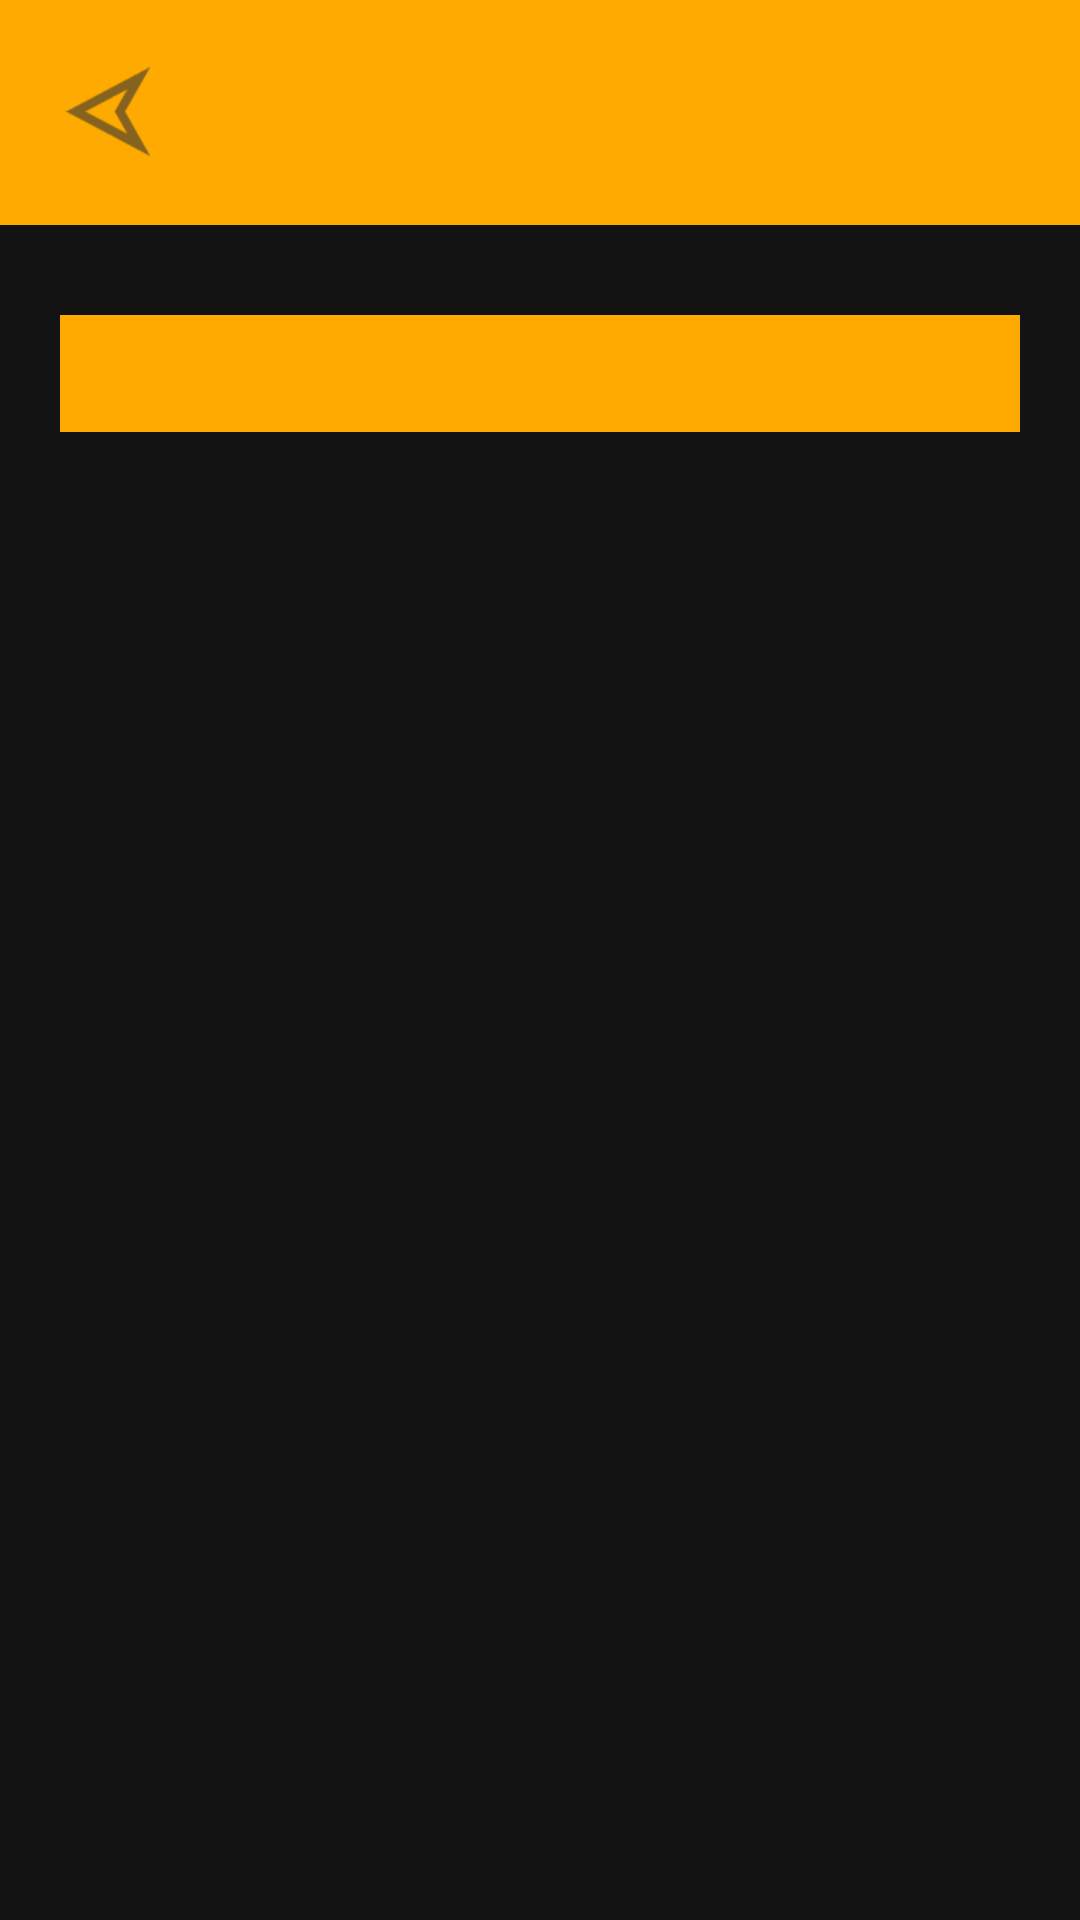

Icons on this 1080 x 1920 Android screen, each with the point to tap as (x,y):
back: (108,111)
